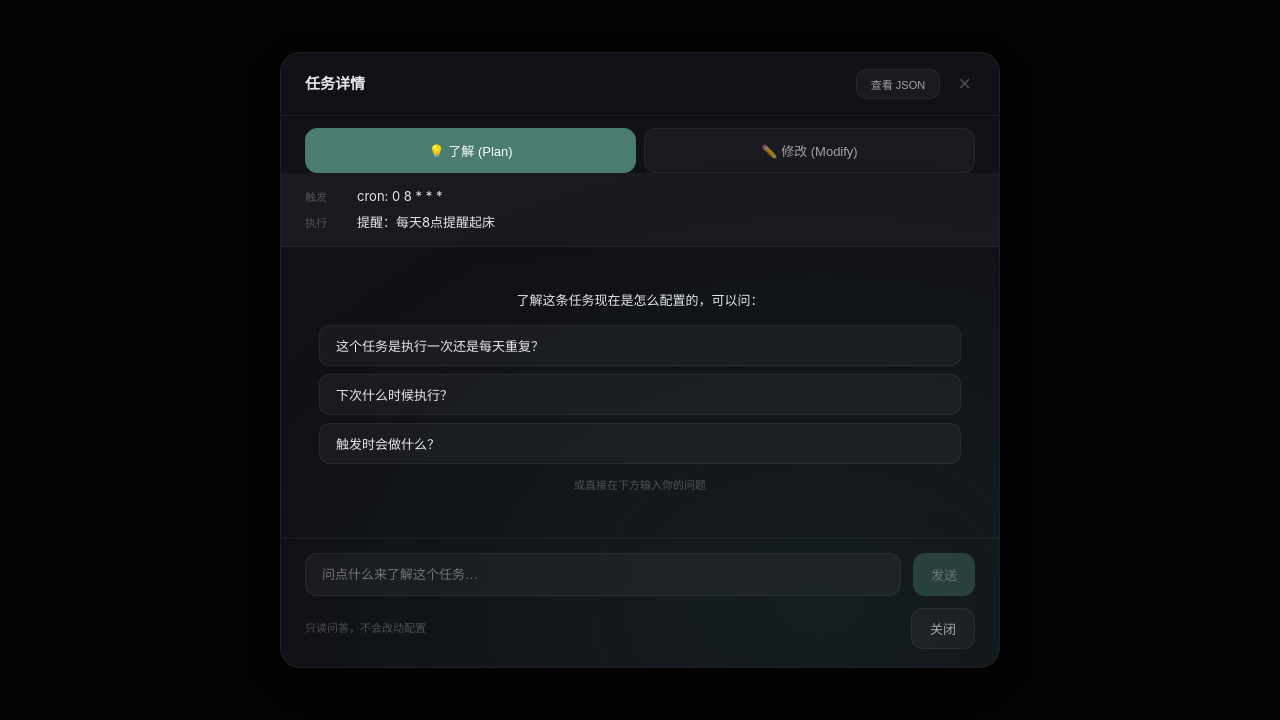
ReviseChatModal › 点建议问题即提问：POST explain 端点并展示回答
Click the button "这个任务是执行一次还是每天重复？" at (440,346), box x1=319 y1=325 x2=961 y2=366
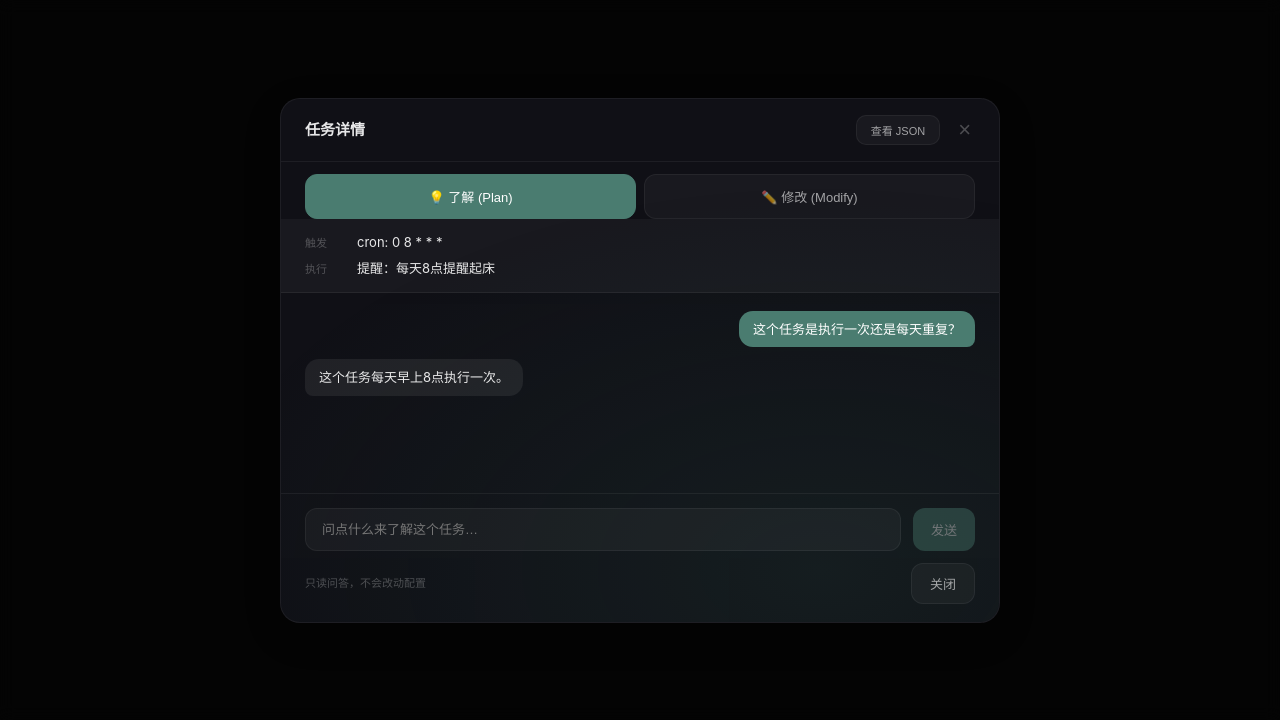
Expected: the text "每天早上8点执行一次" is shown, x1=319 y1=369 x2=509 y2=385
